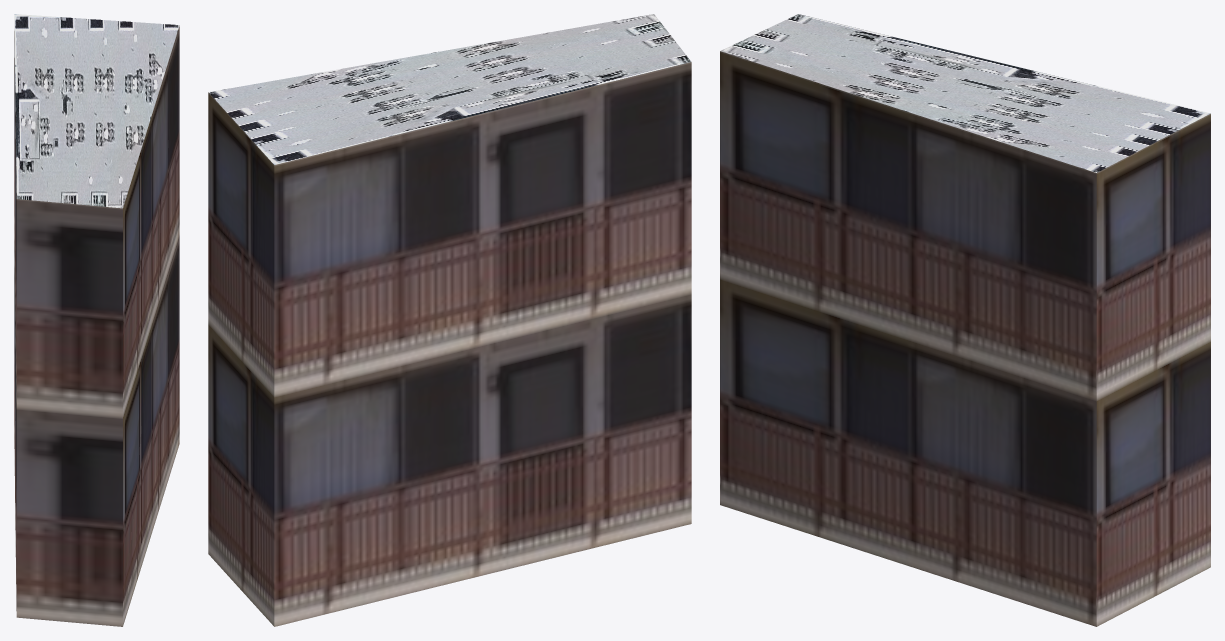
File: ResTex__2188.fbx
The picture shows the model from 3 angles, left to right: view 1: azimuth 30°, elevation 25°; view 2: azimuth 150°, elevation 25°; view 3: azimuth 270°, elevation 25°; orthographic projection. The views are drawn at different scales.
Visible parts, largest first — view 1: CityEngineMaterial_6_m, CityEngineMaterial_m; view 2: CityEngineMaterial_6_m, CityEngineMaterial_m; view 3: CityEngineMaterial_6_m, CityEngineMaterial_m.
Boxes of the visible parts, bbox=[...] form: CityEngineMaterial_6_m: bbox=[14, 26, 179, 626]; CityEngineMaterial_m: bbox=[14, 14, 179, 208]; CityEngineMaterial_6_m: bbox=[208, 62, 691, 626]; CityEngineMaterial_m: bbox=[208, 14, 691, 164]; CityEngineMaterial_6_m: bbox=[720, 51, 1210, 626]; CityEngineMaterial_m: bbox=[720, 14, 1210, 172].
Size of the model in its own units: 4.51 by 6 by 5.88.
2 materials, 2 textured.
